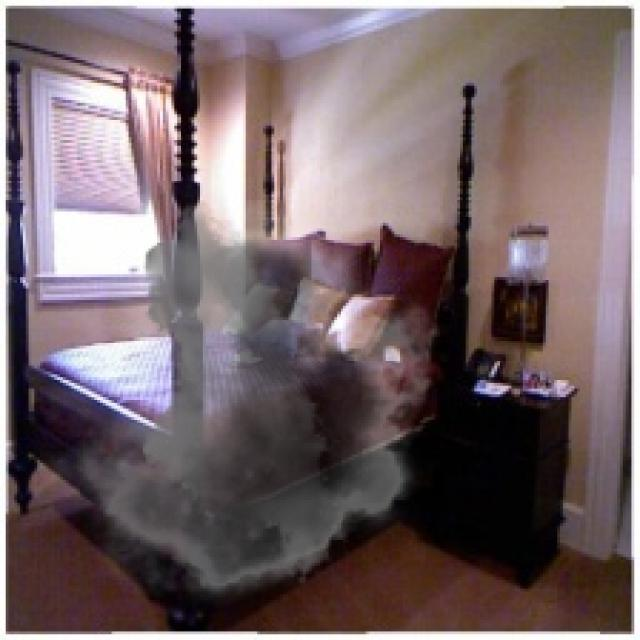smoke: (32, 200, 454, 620)
